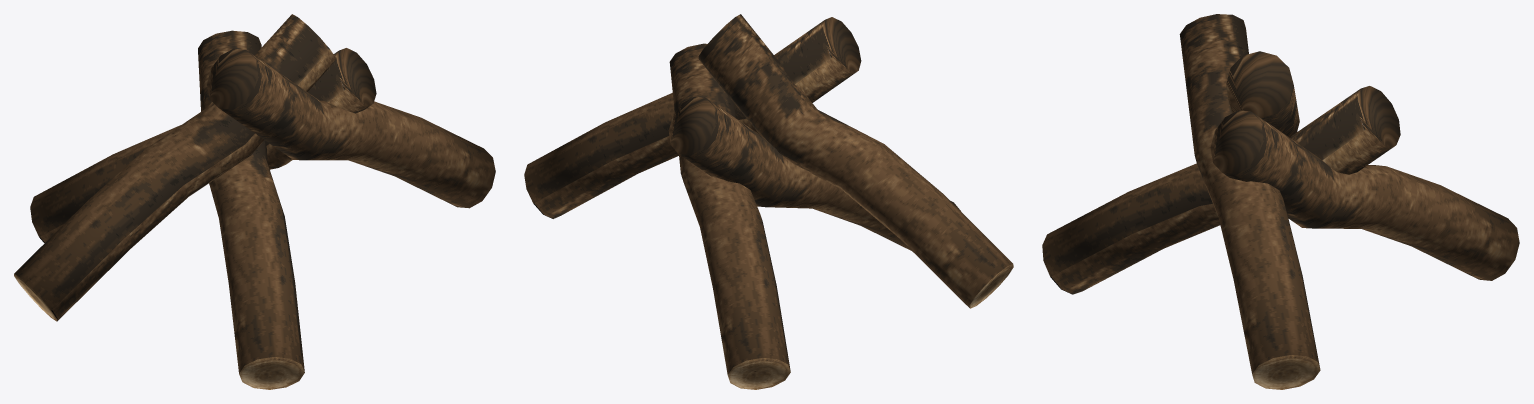
Rendered from campfirefbx.fbx.
The picture shows the model from 3 angles, left to right: view 1: azimuth 30°, elevation 25°; view 2: azimuth 150°, elevation 25°; view 3: azimuth 270°, elevation 25°; orthographic projection. The views are drawn at different scales.
Parts seen in each view (by area): view 1: Cylinder.004; view 2: Cylinder.004; view 3: Cylinder.004.
Part boxes in pixels (x1,y1,x2,y2): Cylinder.004: (14,14,495,389); Cylinder.004: (524,14,1013,389); Cylinder.004: (1042,14,1519,389).
Bounding box in the file's own units: 55.24 × 31.14 × 45.19.
1 material, 1 textured.
